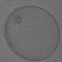small: (14, 15, 24, 24)
